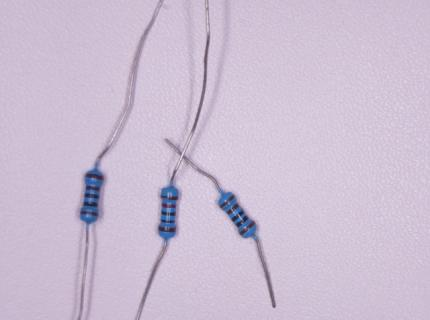Black band: (231, 210, 245, 223), (235, 215, 249, 228), (84, 193, 100, 199), (83, 201, 99, 207)
Brown band: (239, 221, 256, 235), (219, 195, 235, 208), (226, 203, 240, 215), (85, 174, 105, 180), (86, 185, 101, 191), (81, 211, 99, 216)
